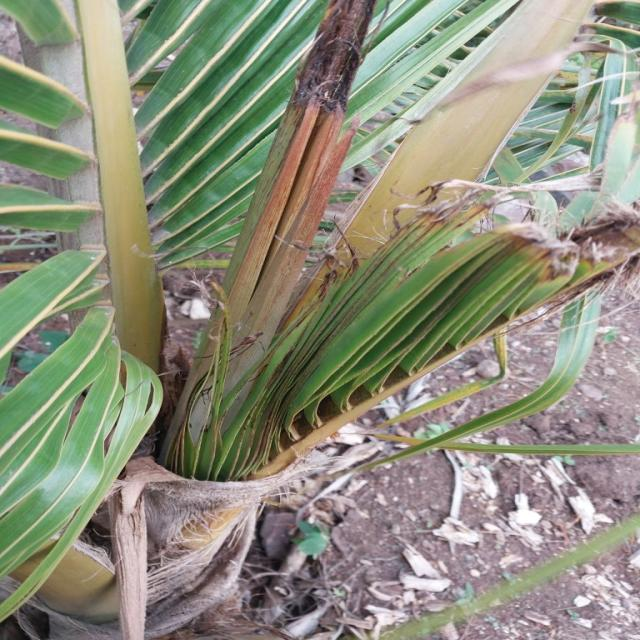bud rot: (223, 0, 375, 387)
